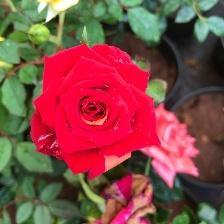rose: (40, 43, 164, 175)
